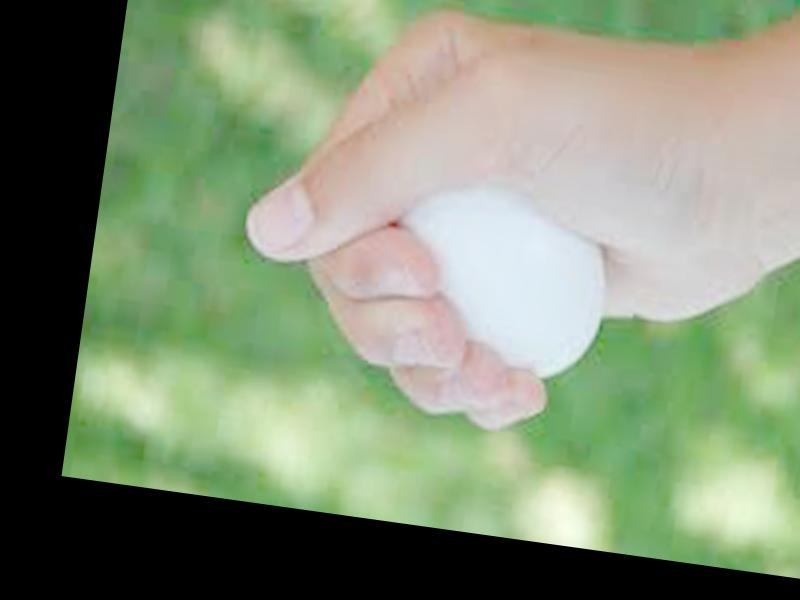Eggs: (379, 175, 615, 386)
